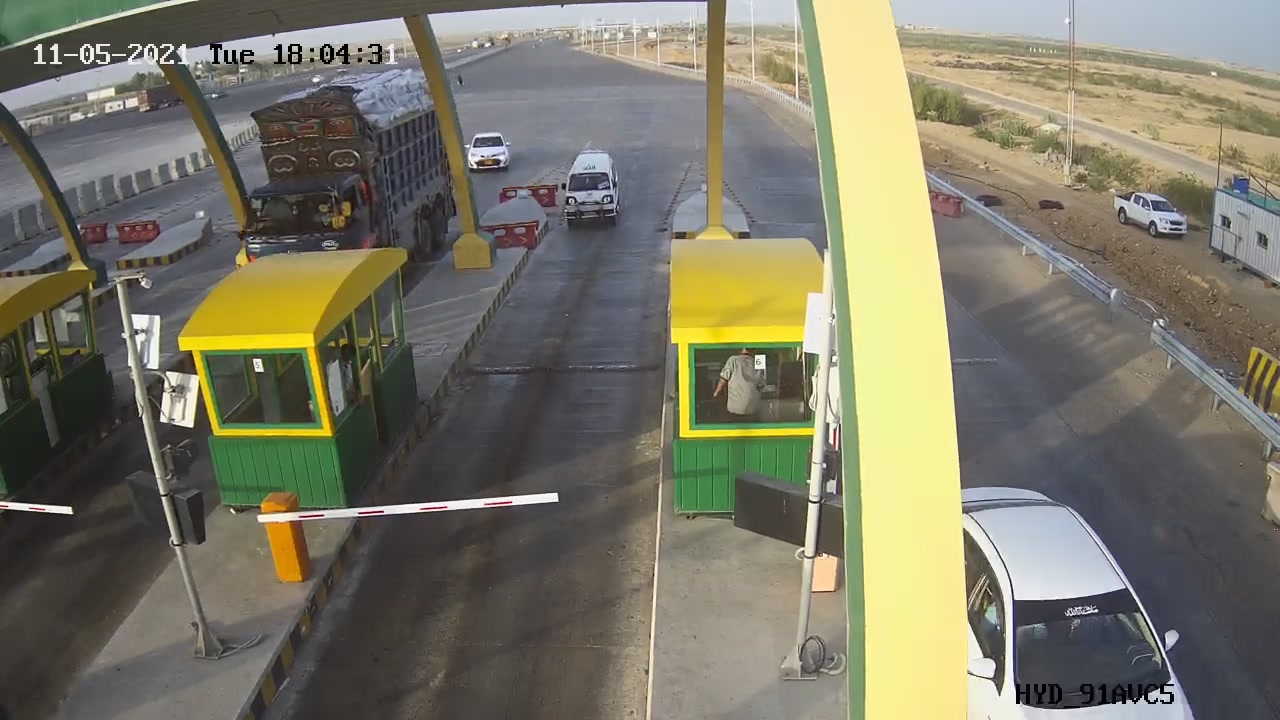F1: (543, 139, 642, 242)
